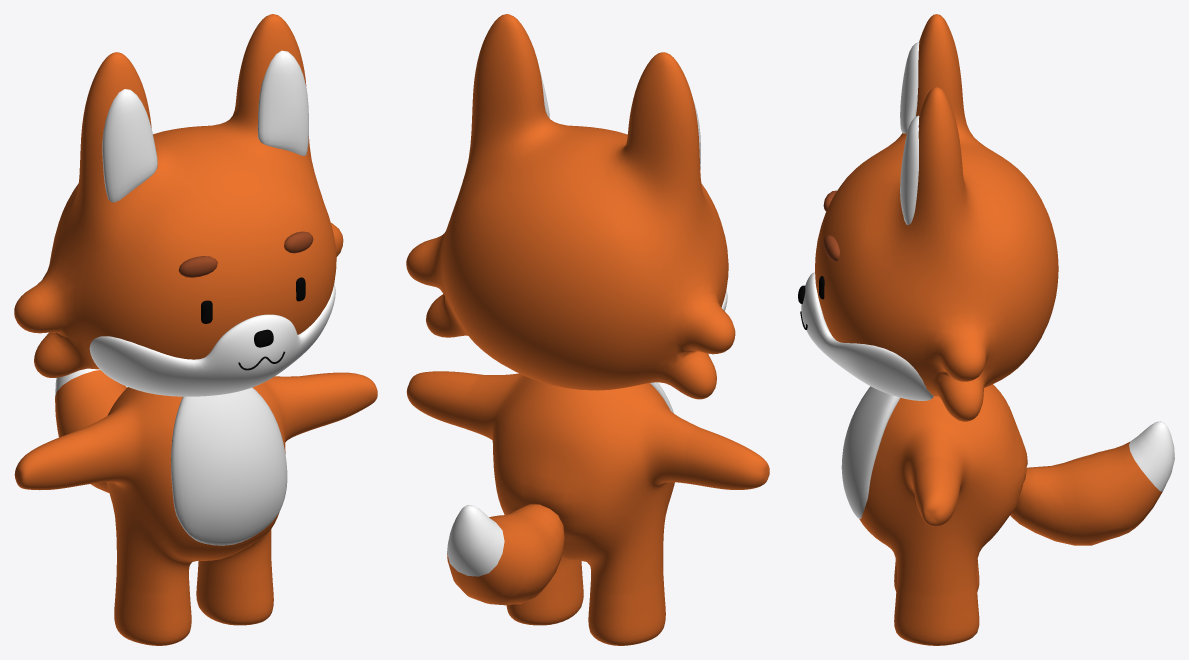
Rendered from fox.glb.
3 renders of one model, left to right at view 1: azimuth 30°, elevation 25°; view 2: azimuth 150°, elevation 25°; view 3: azimuth 270°, elevation 25°, orthographic. The views are drawn at different scales.
Visible parts, largest first — view 1: Object_7.001, Object_10.001, Object_8.002, Object_9, Object_13, Object_12.001, Object_11; view 2: Object_7.001, Object_13, Object_14.001; view 3: Object_7.001, Object_13, Object_8.002, Object_10.001, Object_9, Object_14.001.
Boxes of the visible parts, x1,y1,x2,y2 form: Object_7.001: [14, 14, 377, 645]; Object_10.001: [171, 387, 287, 545]; Object_8.002: [89, 284, 335, 396]; Object_9: [102, 50, 308, 202]; Object_13: [55, 370, 126, 493]; Object_12.001: [178, 231, 313, 277]; Object_11: [201, 277, 305, 370]; Object_7.001: [406, 14, 769, 645]; Object_13: [447, 504, 564, 605]; Object_14.001: [447, 505, 504, 576]; Object_7.001: [815, 14, 1058, 645]; Object_13: [1010, 442, 1162, 545]; Object_8.002: [801, 272, 933, 400]; Object_10.001: [841, 386, 900, 518]; Object_9: [900, 42, 919, 224]; Object_14.001: [1129, 421, 1174, 491].
Size of the model in its own units: 79.34 by 125 by 75.78.
